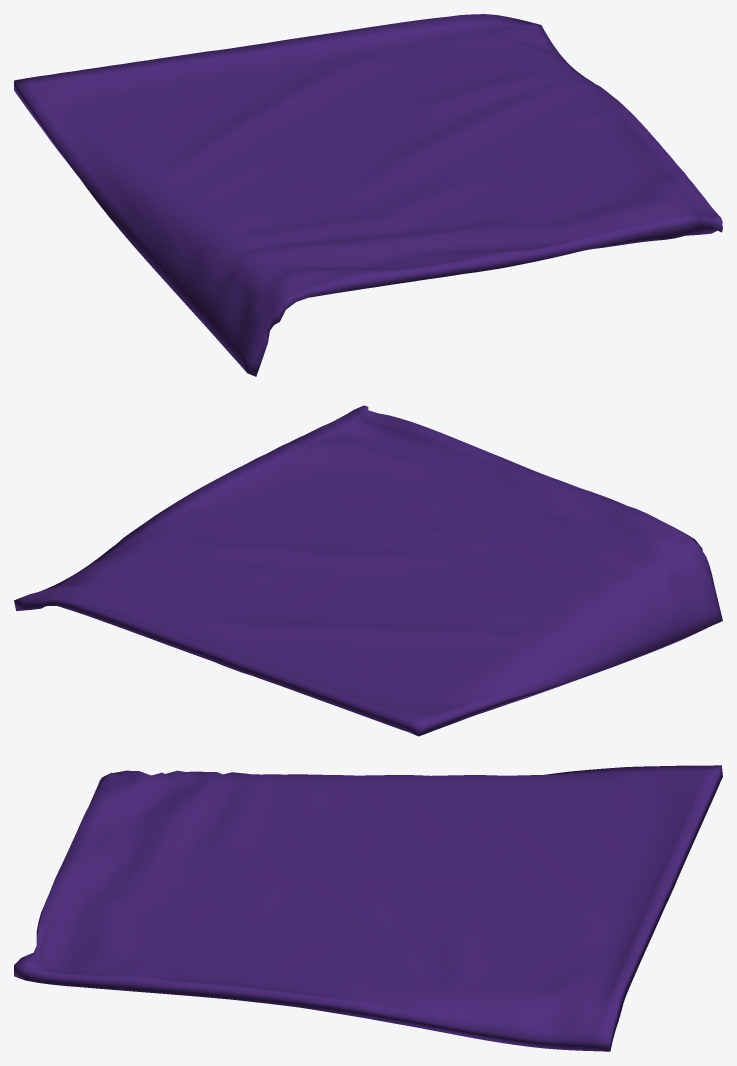
The model's file is bedsheet.glb.
3 views of the same model, one above another, from view 1: azimuth 30°, elevation 25°; view 2: azimuth 150°, elevation 25°; view 3: azimuth 270°, elevation 25° (orthographic). The views are drawn at different scales.
Visible parts, largest first — view 1: Odeyalo; view 2: Odeyalo; view 3: Odeyalo.
Part boxes in pixels (x1=…): Odeyalo: x1=14, y1=14, x2=722, y2=376; Odeyalo: x1=14, y1=405, x2=722, y2=736; Odeyalo: x1=14, y1=765, x2=722, y2=1051.
Bounding box in the file's own units: 1.39 × 0.2464 × 1.52.
